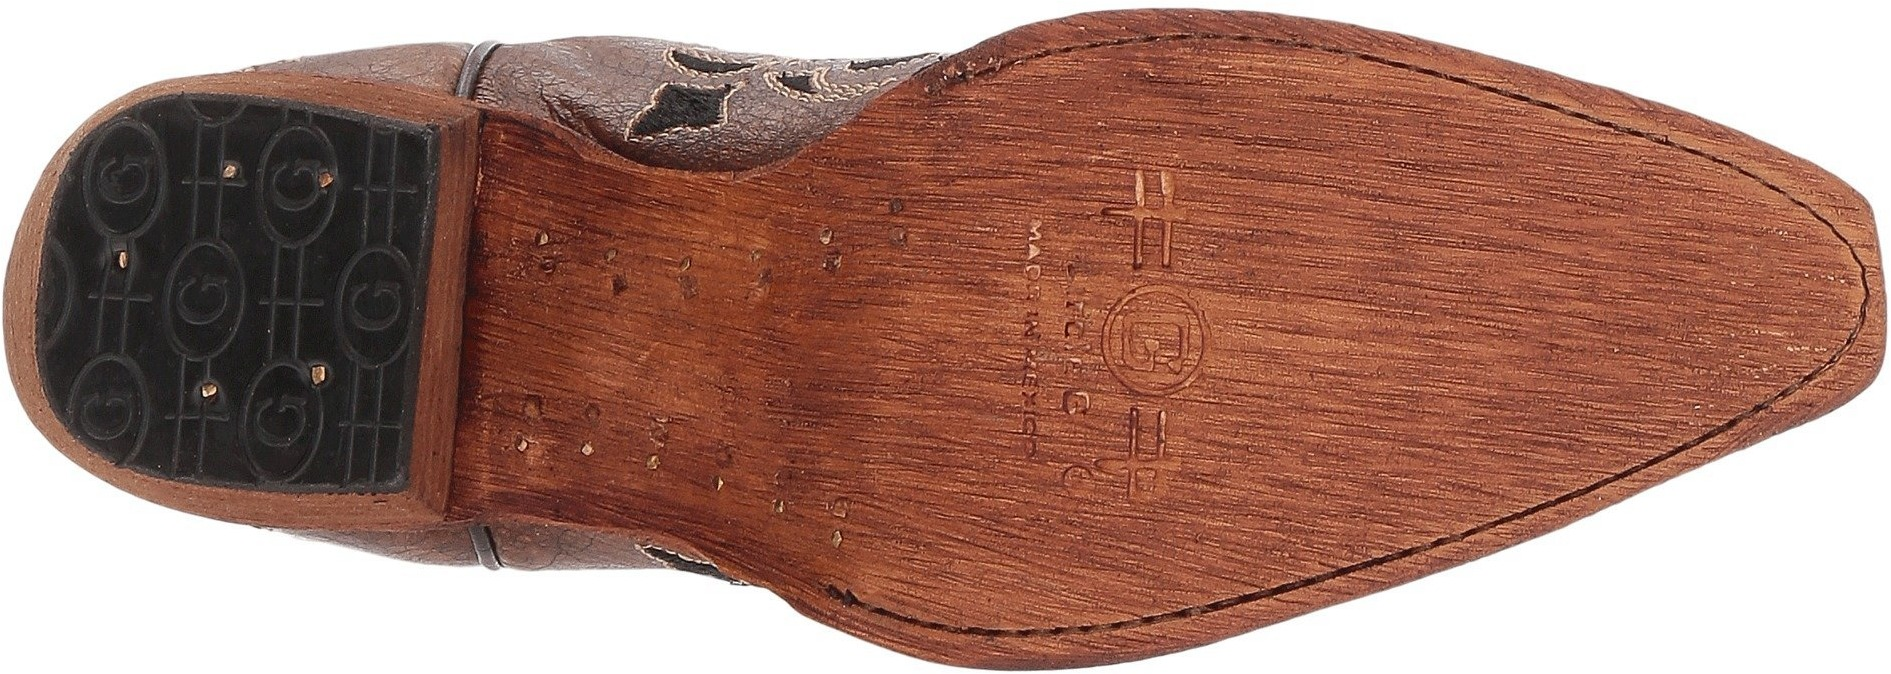circle: (1090, 270, 1226, 404), (160, 241, 252, 367), (203, 146, 258, 198), (191, 370, 232, 411)
line: (262, 252, 324, 354)
other: (1259, 110, 1620, 468), (1334, 146, 1606, 395), (1520, 168, 1766, 406)
quad: (256, 227, 330, 309)
text: (1090, 270, 1226, 404), (160, 241, 252, 367), (166, 260, 250, 341), (1116, 304, 1198, 382)
